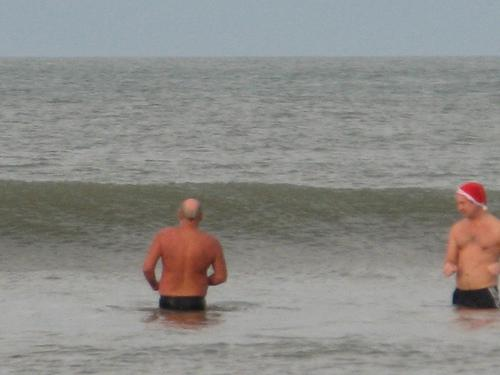swimmer: (143, 197, 227, 314), (446, 182, 500, 310)
